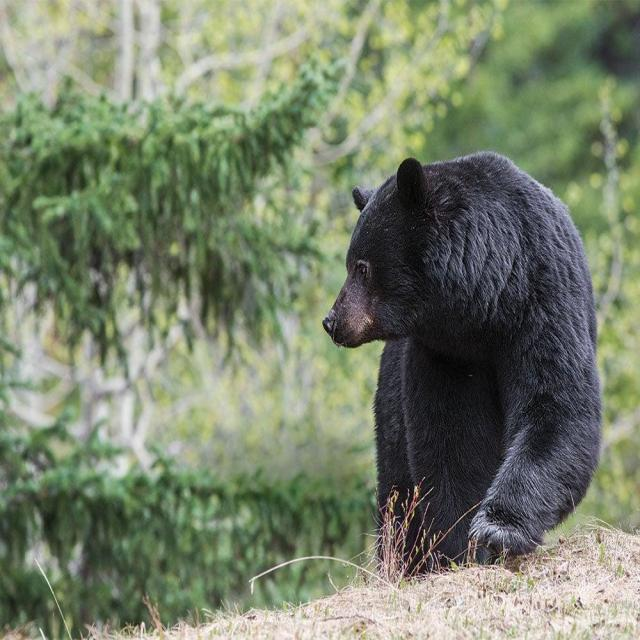Bear: (322, 151, 604, 583)
